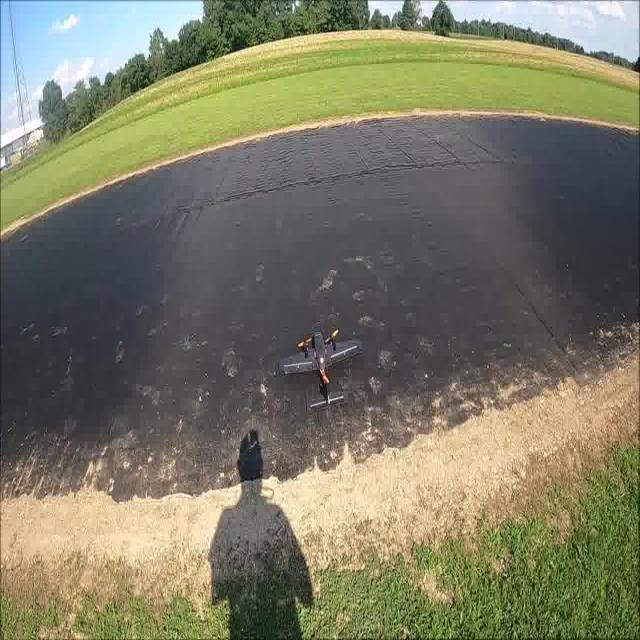iha: (309, 349, 331, 390)
